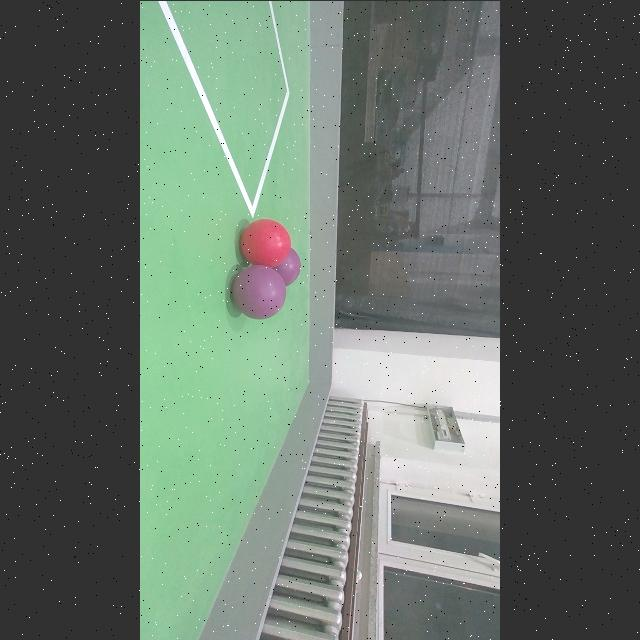P: (232, 264, 286, 318), (272, 243, 306, 284)
R: (241, 218, 291, 266)
